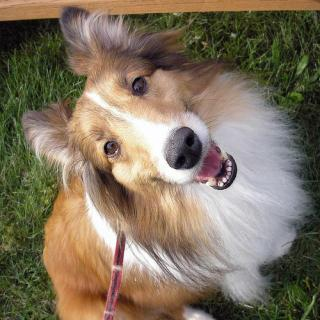dog: (27, 18, 248, 207)
nose: (161, 122, 202, 172)
